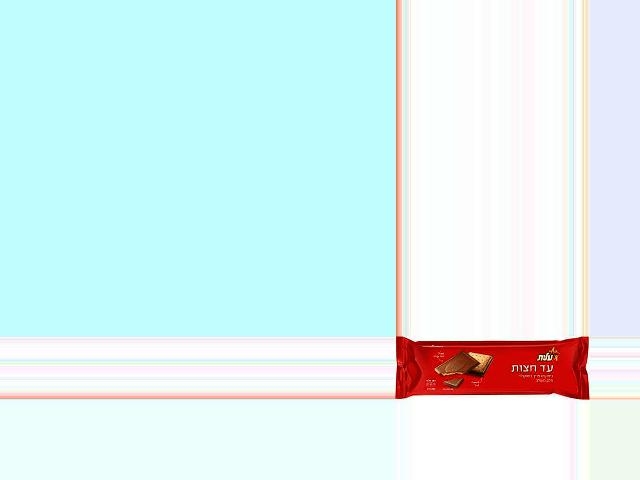chocolate: (397, 336, 584, 400)
